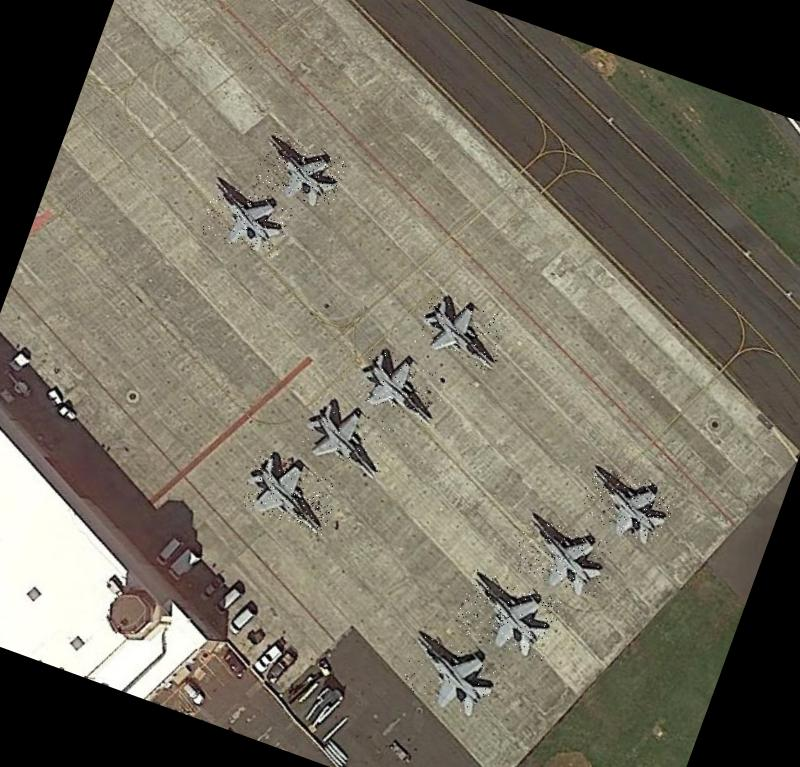A16: (453, 568, 564, 662), (396, 632, 506, 723), (238, 448, 343, 534), (510, 513, 614, 598), (574, 462, 678, 545), (414, 288, 514, 372), (253, 130, 350, 211), (199, 179, 295, 260), (300, 396, 396, 477), (354, 344, 451, 424)
